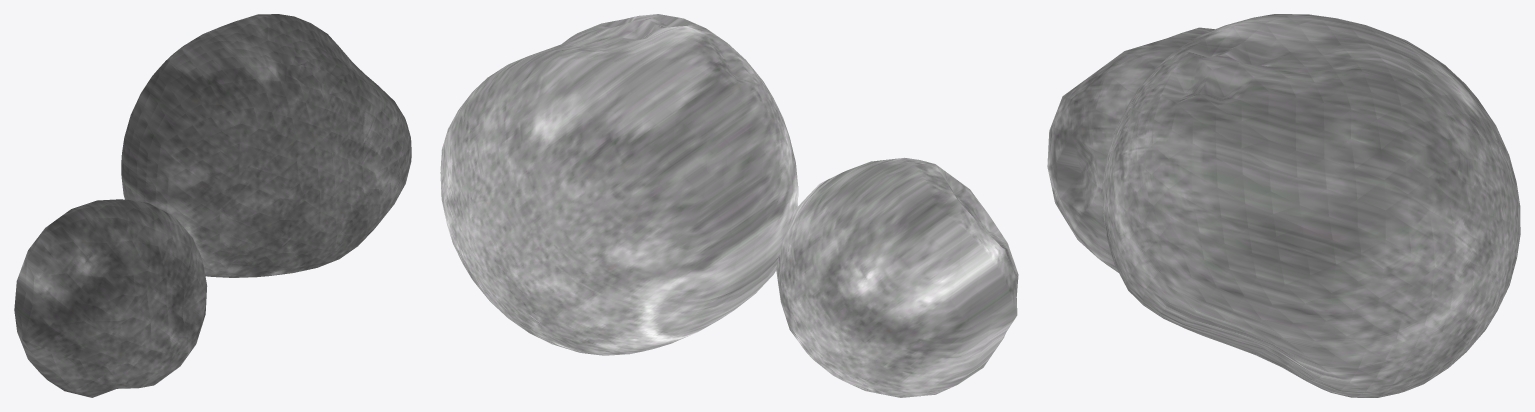
Rendered from ultima-thule-3d.fbx.
3 views of the same model, side by side, from view 1: azimuth 30°, elevation 25°; view 2: azimuth 150°, elevation 25°; view 3: azimuth 270°, elevation 25° (orthographic). The views are drawn at different scales.
Visible parts, largest first — view 1: node_id6; view 2: node_id6; view 3: node_id6.
Boxes of the visible parts, x1,y1,x2,y2 form: node_id6: (14,14,411,397); node_id6: (440,14,1018,397); node_id6: (1047,14,1520,397).
Bounding box in the file's own units: 0.3209 × 0.1985 × 0.2238.
1 material, 1 textured.
